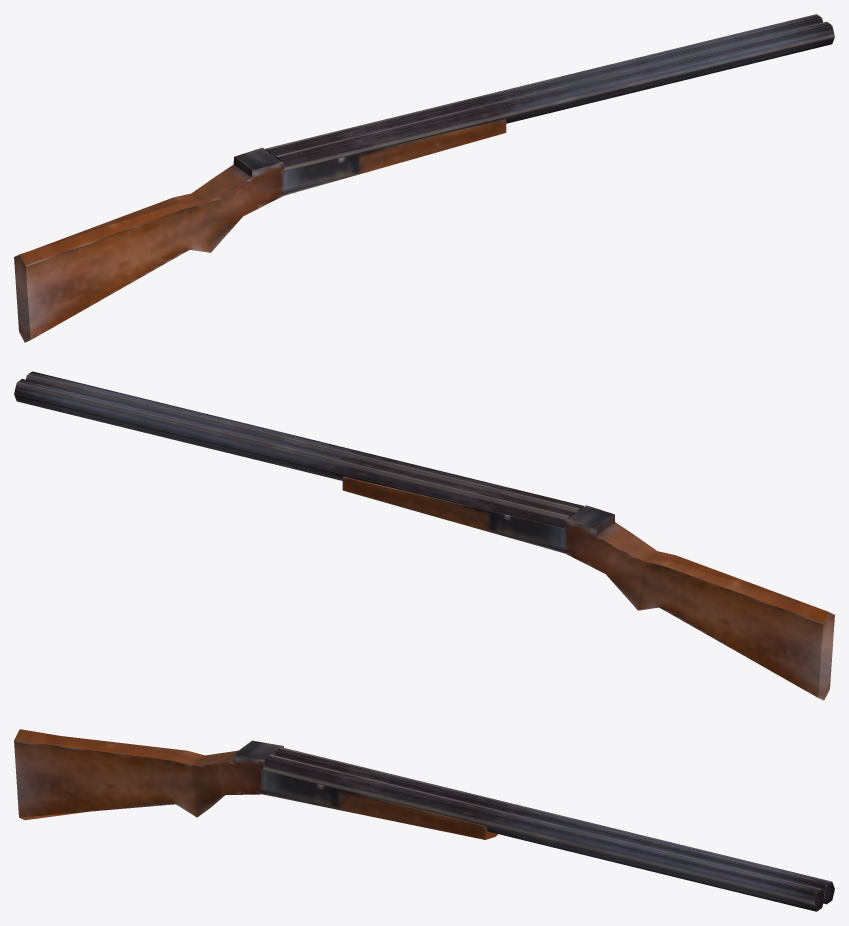
Rendered from shotgun_with_texture.fbx.
The picture shows the model from 3 angles, top to bottom: view 1: azimuth 30°, elevation 25°; view 2: azimuth 150°, elevation 25°; view 3: azimuth 330°, elevation 25°; orthographic projection.
Parts seen in each view (by area): view 1: Plane.001; view 2: Plane.001; view 3: Plane.001.
Part boxes in pixels (<box>): Plane.001: <box>14,14,834,342</box>; Plane.001: <box>14,371,834,700</box>; Plane.001: <box>14,729,834,911</box>.
Bounding box in the file's own units: 1413 × 215 × 64.76.
Materials: 3 (3 with a texture image).
